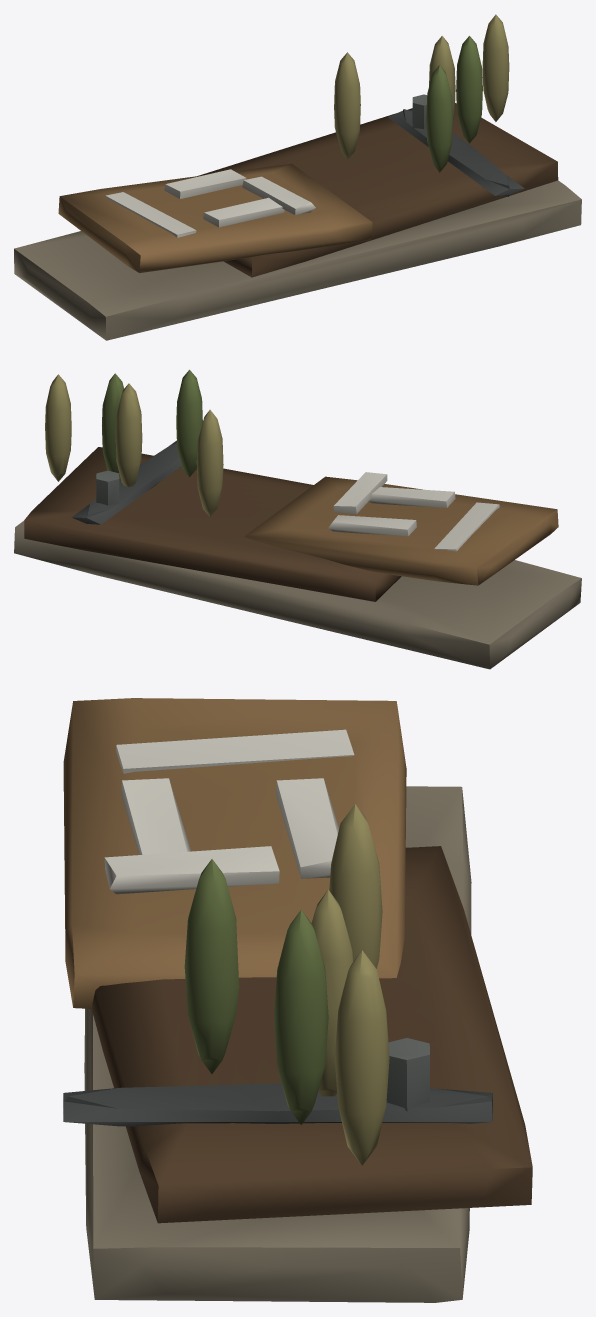
Rendered from bent_numbers_a_lod1.glb.
The picture shows the model from 3 angles, top to bottom: view 1: azimuth 30°, elevation 25°; view 2: azimuth 150°, elevation 25°; view 3: azimuth 270°, elevation 25°; orthographic projection. The views are drawn at different scales.
Parts seen in each view (by area): view 1: Surface.001; view 2: Surface.001; view 3: Surface.001.
Part boxes in pixels (<box>): Surface.001: <box>14,14,581,340</box>; Surface.001: <box>14,369,581,669</box>; Surface.001: <box>63,698,532,1302</box>.
Bounding box in the file's own units: 2.6 × 0.8775 × 1.09.
